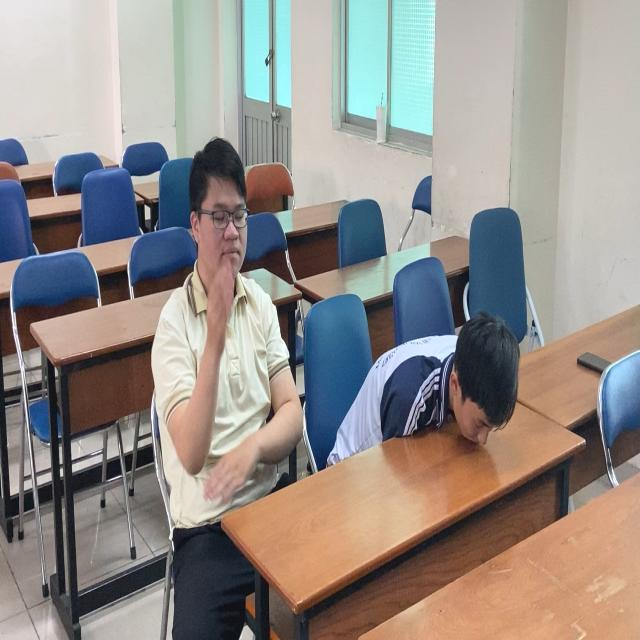sleep: (337, 295, 526, 474)
